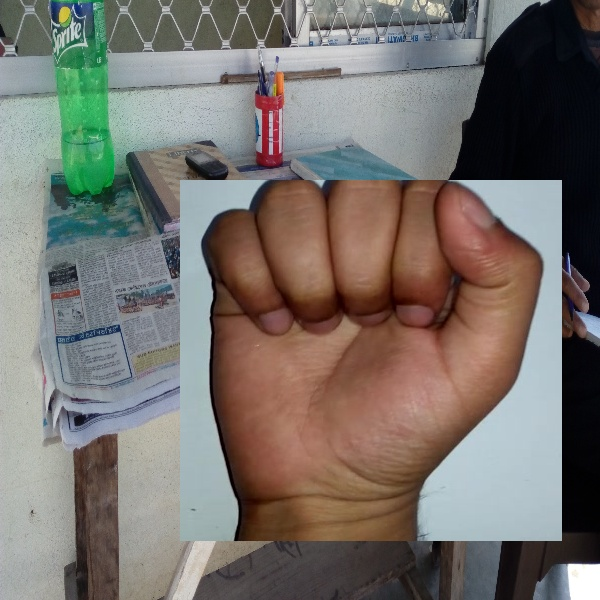A: (180, 180, 562, 541)
